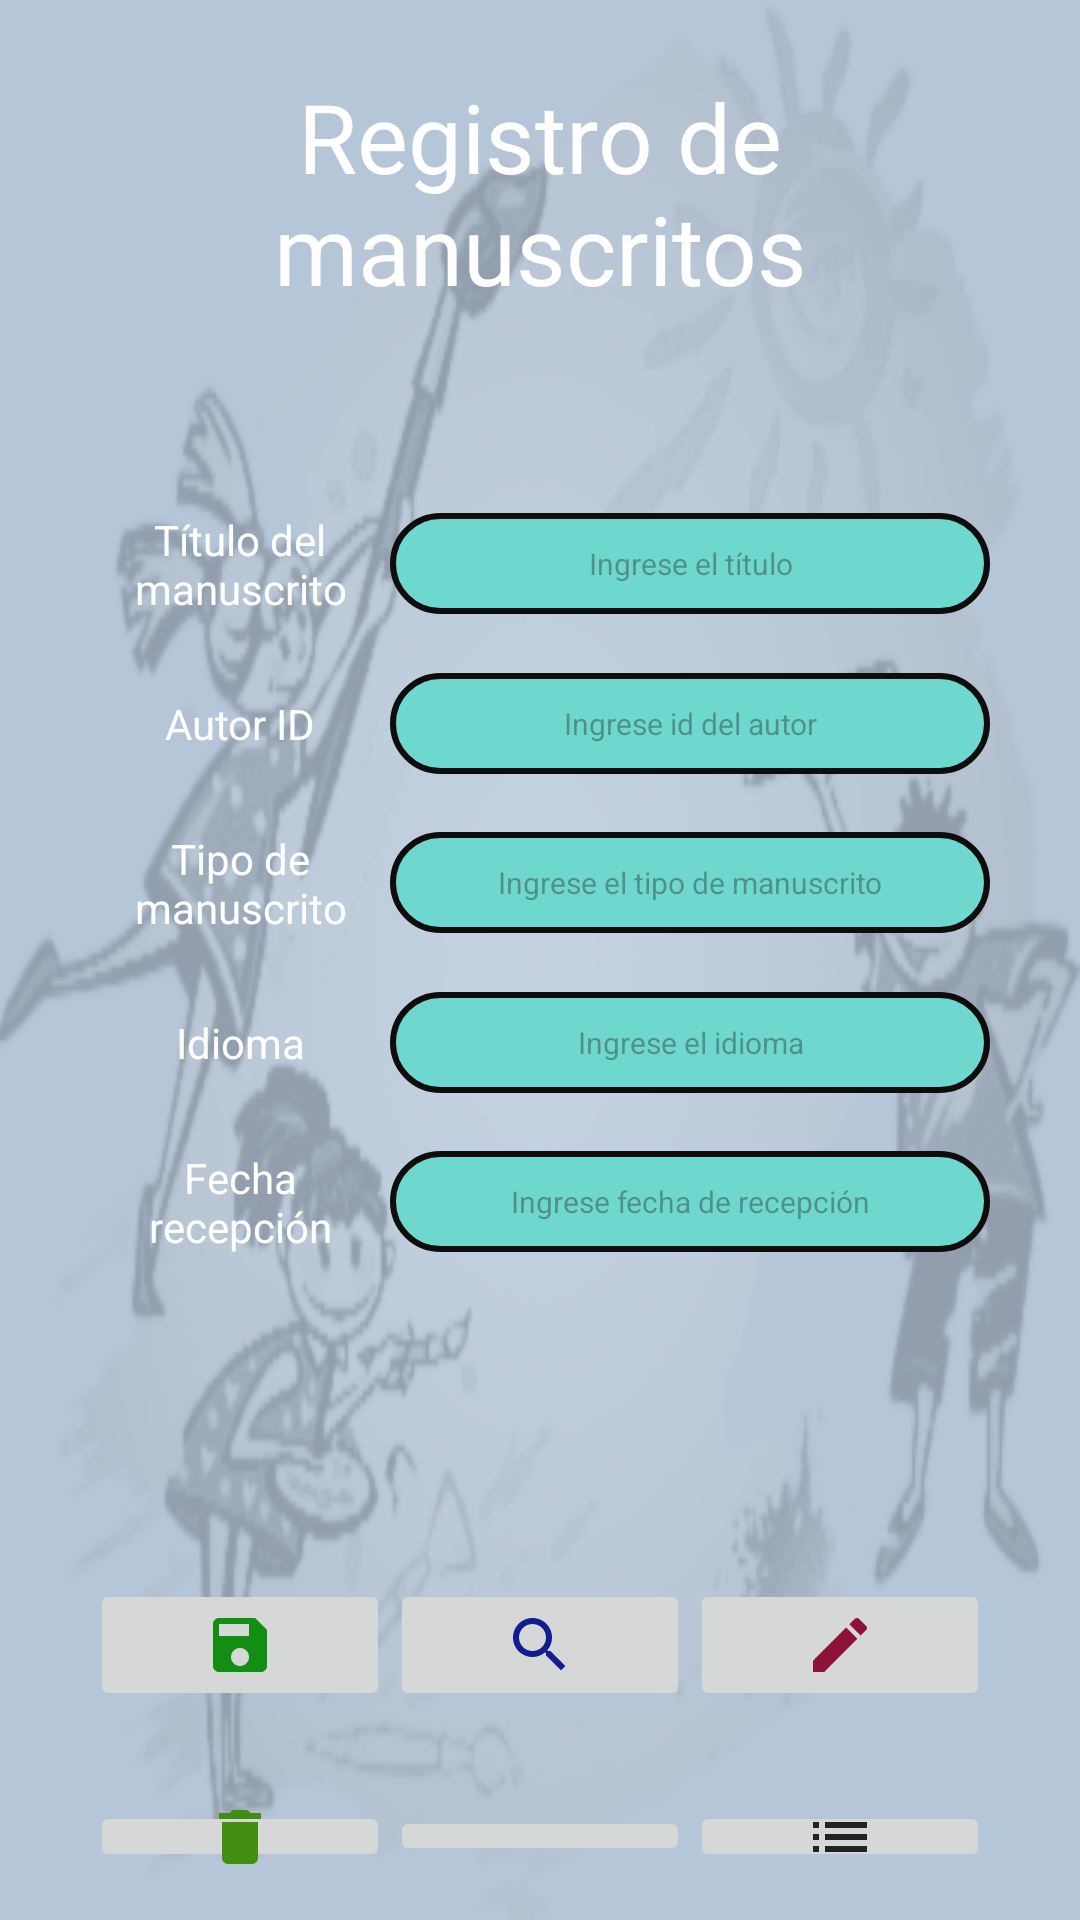

Where icons sit on this 1080×1920 app screen, as box(x1, y1, x2, y2):
delete: box(102, 1801, 378, 1864)
edit: box(702, 1579, 978, 1693)
save: box(102, 1579, 378, 1711)
search: box(402, 1597, 678, 1693)
